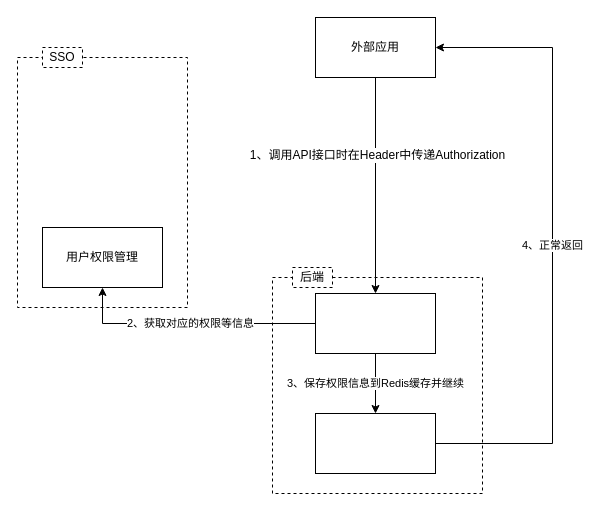
This 600x511 diagram has some shape labels left out. Here are the shapes that lost their labels. From the top down, the box of each, then its label:
(314, 292, 436, 354): 后端鉴权
(314, 412, 436, 474): 后端逻辑
